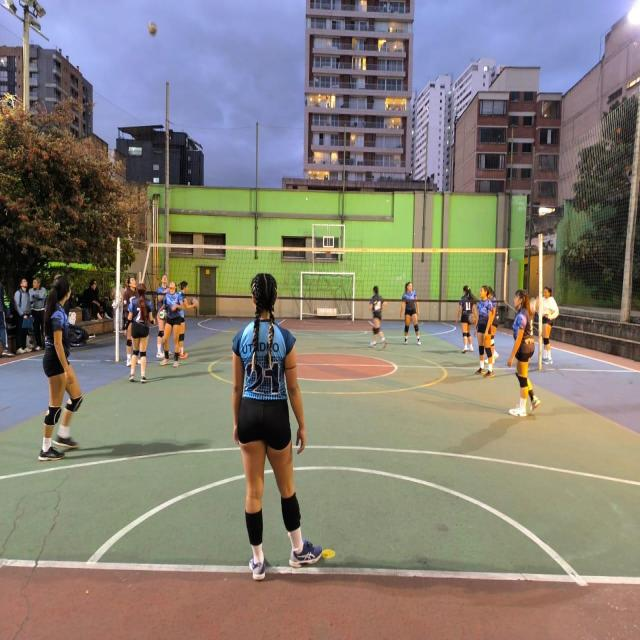volleyball: (148, 21, 157, 37), (159, 310, 167, 320), (469, 314, 477, 324), (190, 298, 198, 304)
